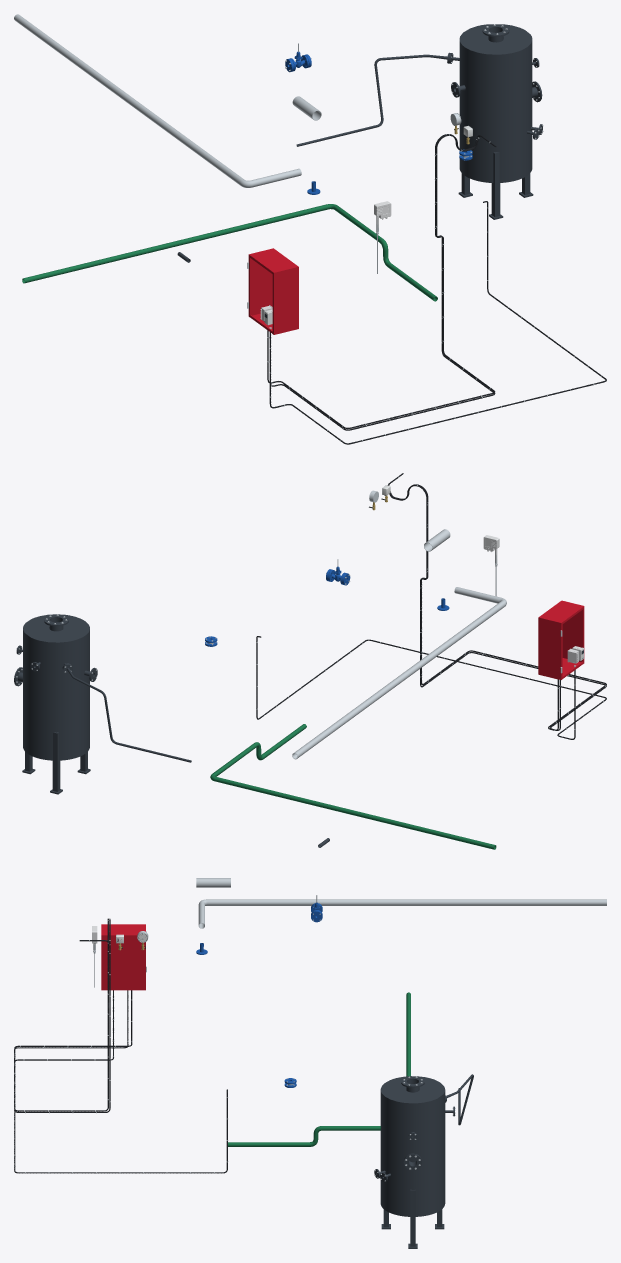
File: s4000-3-ShRKRId2.glb
3 renders of one model, top to bottom at view 1: azimuth 30°, elevation 25°; view 2: azimuth 150°, elevation 25°; view 3: azimuth 270°, elevation 25°, orthographic. The views are drawn at different scales.
Visible parts, largest first — view 1: separator_bdv60_5 / dark, control_cabinet / control_cabinet_0.npz, suction_common / green, safety_vent_1 / steel, wiring_pump_1 / black, wiring_pressure_switch_2 / black, wiring_pressure_switch_1 / black, tds_without_fv / dark; view 2: separator_bdv60_5 / dark, control_cabinet / control_cabinet_0.npz, suction_common / green, safety_vent_1 / steel, wiring_pump_1 / black, wiring_pressure_switch_1 / black, wiring_pressure_switch_2 / black, tds_without_fv / dark; view 3: separator_bdv60_5 / dark, safety_vent_1 / steel, control_cabinet / control_cabinet_0.npz, suction_common / green, wiring_pressure_switch_2 / black, wiring_pump_1 / black, wiring_pressure_switch_1 / black.
Part boxes in pixels (left/top/right/bottom): separator_bdv60_5 / dark: left=449, top=24, right=542, bottom=219; control_cabinet / control_cabinet_0.npz: left=247, top=248, right=298, bottom=334; suction_common / green: left=22, top=204, right=437, bottom=301; safety_vent_1 / steel: left=14, top=14, right=301, bottom=187; wiring_pump_1 / black: left=269, top=201, right=606, bottom=444; wiring_pressure_switch_2 / black: left=267, top=134, right=495, bottom=428; wiring_pressure_switch_1 / black: left=271, top=134, right=496, bottom=430; tds_without_fv / dark: left=296, top=52, right=450, bottom=146; separator_bdv60_5 / dark: left=14, top=614, right=97, bottom=794; control_cabinet / control_cabinet_0.npz: left=538, top=600, right=584, bottom=679; suction_common / green: left=210, top=724, right=496, bottom=849; safety_vent_1 / steel: left=292, top=587, right=506, bottom=759; wiring_pump_1 / black: left=256, top=636, right=606, bottom=739; wiring_pressure_switch_1 / black: left=387, top=473, right=606, bottom=730; wiring_pressure_switch_2 / black: left=389, top=481, right=606, bottom=730; tds_without_fv / dark: left=63, top=664, right=191, bottom=762; separator_bdv60_5 / dark: left=374, top=1076, right=454, bottom=1248; safety_vent_1 / steel: left=198, top=899, right=606, bottom=928; control_cabinet / control_cabinet_0.npz: left=101, top=924, right=146, bottom=990; suction_common / green: left=228, top=992, right=410, bottom=1146; wiring_pressure_switch_2 / black: left=14, top=918, right=132, bottom=1111; wiring_pump_1 / black: left=14, top=990, right=227, bottom=1173; wiring_pressure_switch_1 / black: left=14, top=918, right=128, bottom=1112.
Size of the model in its own units: 6.26 by 3.01 by 7.03.
